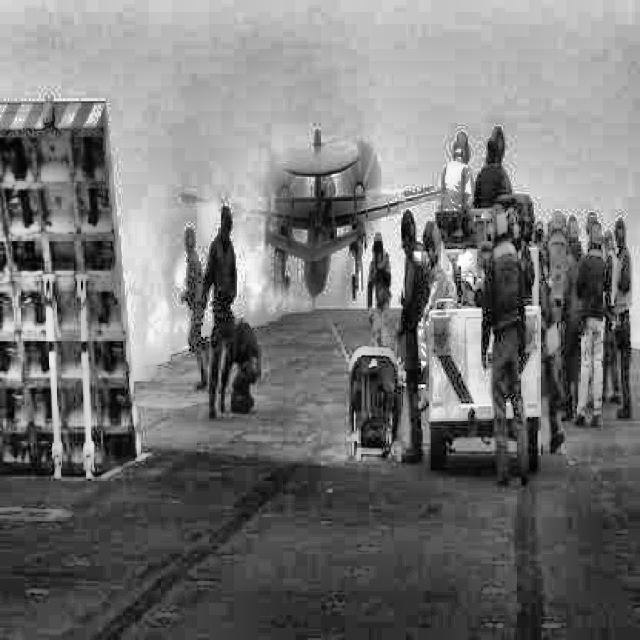E2: (180, 129, 442, 311)
